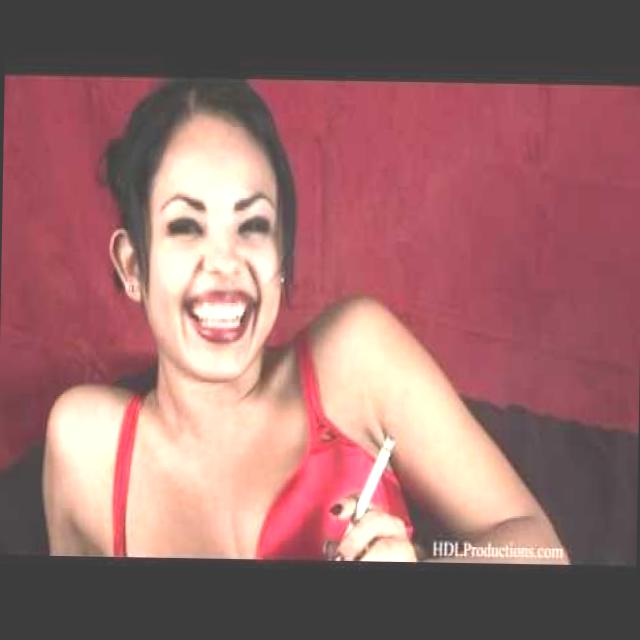smoke: (344, 416, 410, 542)
